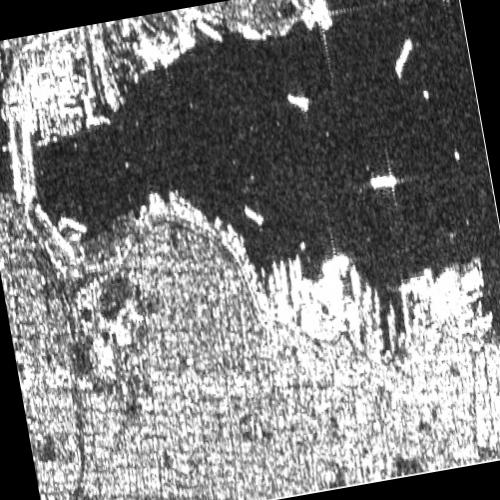ship: (395, 37, 414, 78), (195, 19, 223, 43), (56, 215, 88, 233), (369, 171, 398, 190), (286, 91, 310, 112), (243, 204, 265, 225), (287, 256, 297, 294), (279, 260, 289, 297), (293, 253, 302, 293), (272, 260, 281, 292), (267, 272, 276, 295)
